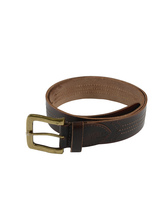other: (13, 73, 149, 158)
